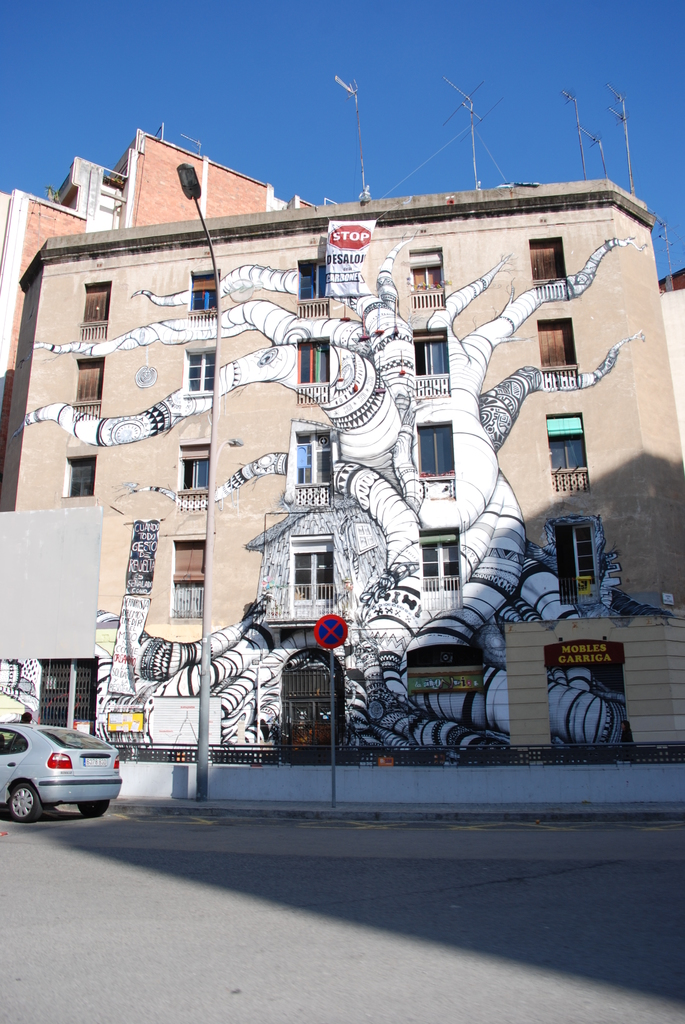mobil: (1, 719, 131, 828)
